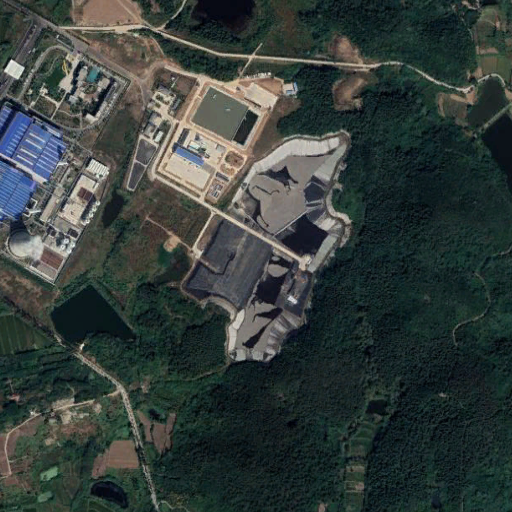lf: (181, 127, 348, 364)
